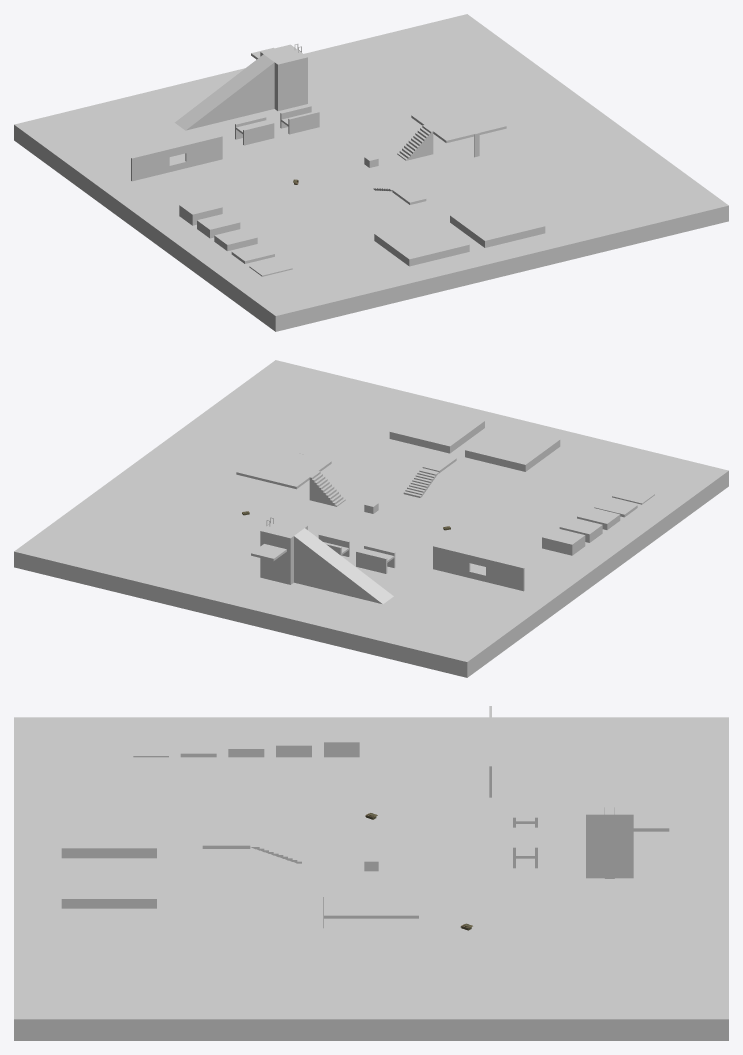
File: stage_lab.glb
The picture shows the model from 3 angles, top to bottom: view 1: azimuth 30°, elevation 25°; view 2: azimuth 150°, elevation 25°; view 3: azimuth 270°, elevation 25°; orthographic projection. The views are drawn at different scales.
Parts seen in each view (by area): view 1: concrete_ground, concrete_ramp_tower, concrete_plateau_w, concrete_plateau_e, concrete_deck, concrete_tower, concrete_window_left, concrete_window_right, concrete_step_150, concrete_step_120, concrete_step_090, concrete_step_045; view 2: concrete_ground, concrete_ramp_tower, concrete_plateau_w, concrete_plateau_e, concrete_deck, concrete_tower, concrete_window_left, concrete_window_right, concrete_step_150, concrete_step_120, concrete_step_090, concrete_stair1 (+1 smaller); view 3: concrete_ground, concrete_plateau_e, concrete_plateau_w, concrete_deck, concrete_tower, concrete_step_150, concrete_step_120, concrete_step_090, concrete_step_045, concrete_step_025, concrete_stair1, concrete_stair_top (+2 smaller).
Boxes of the visible parts, bbox=[...] form: concrete_ground: bbox=[14, 14, 728, 331]; concrete_ramp_tower: bbox=[174, 54, 274, 130]; concrete_plateau_w: bbox=[374, 219, 469, 266]; concrete_plateau_e: bbox=[450, 200, 545, 247]; concrete_deck: bbox=[411, 100, 506, 143]; concrete_tower: bbox=[260, 44, 307, 110]; concrete_window_left: bbox=[131, 148, 169, 181]; concrete_window_right: bbox=[185, 135, 222, 167]; concrete_step_150: bbox=[179, 198, 222, 225]; concrete_step_120: bbox=[197, 213, 240, 238]; concrete_step_090: bbox=[214, 228, 257, 251]; concrete_step_045: bbox=[231, 244, 274, 263]; concrete_ground: bbox=[14, 360, 728, 677]; concrete_ramp_tower: bbox=[294, 528, 393, 604]; concrete_plateau_w: bbox=[465, 424, 560, 471]; concrete_plateau_e: bbox=[389, 406, 484, 453]; concrete_deck: bbox=[236, 446, 331, 489]; concrete_tower: bbox=[260, 518, 307, 584]; concrete_window_left: bbox=[486, 558, 524, 591]; concrete_window_right: bbox=[433, 545, 470, 577]; concrete_step_150: bbox=[542, 528, 585, 555]; concrete_step_120: bbox=[559, 517, 602, 542]; concrete_step_090: bbox=[577, 507, 620, 529]; concrete_stair1: bbox=[403, 468, 438, 497]; concrete_ground: bbox=[14, 717, 728, 1040]; concrete_plateau_e: bbox=[61, 858, 156, 908]; concrete_plateau_w: bbox=[61, 808, 156, 858]; concrete_deck: bbox=[324, 875, 418, 918]; concrete_tower: bbox=[586, 794, 633, 878]; concrete_step_150: bbox=[324, 722, 359, 757]; concrete_step_120: bbox=[276, 725, 311, 757]; concrete_step_090: bbox=[228, 728, 264, 757]; concrete_step_045: bbox=[180, 733, 216, 757]; concrete_step_025: bbox=[133, 735, 168, 757]; concrete_stair1: bbox=[250, 836, 301, 863]; concrete_stair_top: bbox=[202, 834, 250, 848].
Size of the model in its own units: 60 by 8.62 by 60.
Materials: 1 (1 with a texture image).
